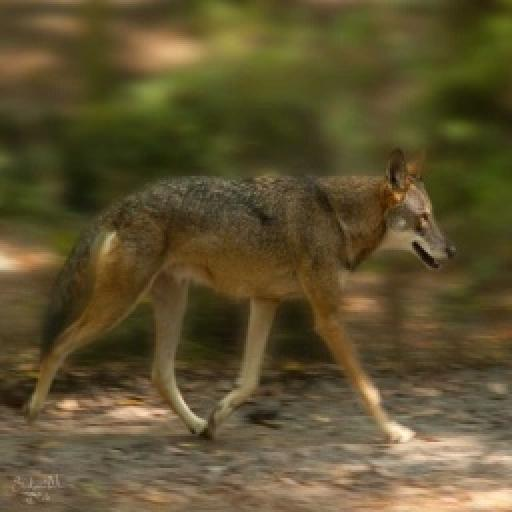zorro: (28, 148, 454, 442)
